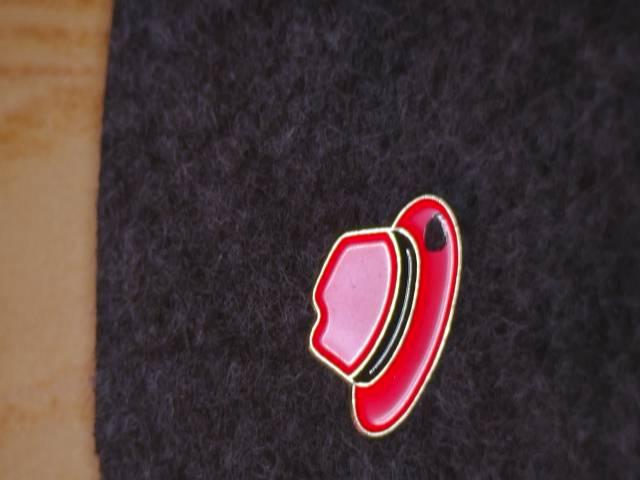Red-Hat: (286, 168, 491, 453)
Scratch: (415, 201, 464, 273)
